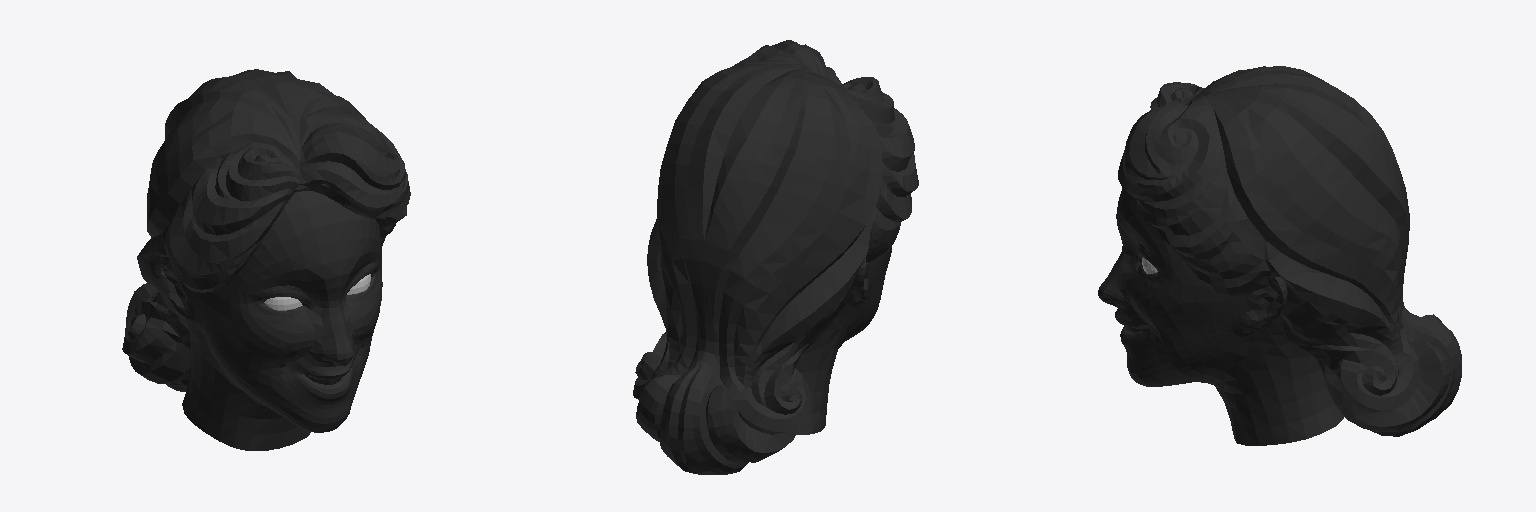
The model's file is Head.obj.
The picture shows the model from 3 angles: view 1: azimuth 30°, elevation 25°; view 2: azimuth 150°, elevation 25°; view 3: azimuth 270°, elevation 25°; orthographic projection.
Parts seen in each view (by area): view 1: SK_FM_Head_C.001; view 2: SK_FM_Head_C.001; view 3: SK_FM_Head_C.001.
Part boxes in pixels (x1,y1,x2,y2): SK_FM_Head_C.001: (122,69,410,450); SK_FM_Head_C.001: (633,40,918,474); SK_FM_Head_C.001: (1098,66,1461,445).
Bounding box in the file's own units: 0.1705 × 0.2652 × 0.249.